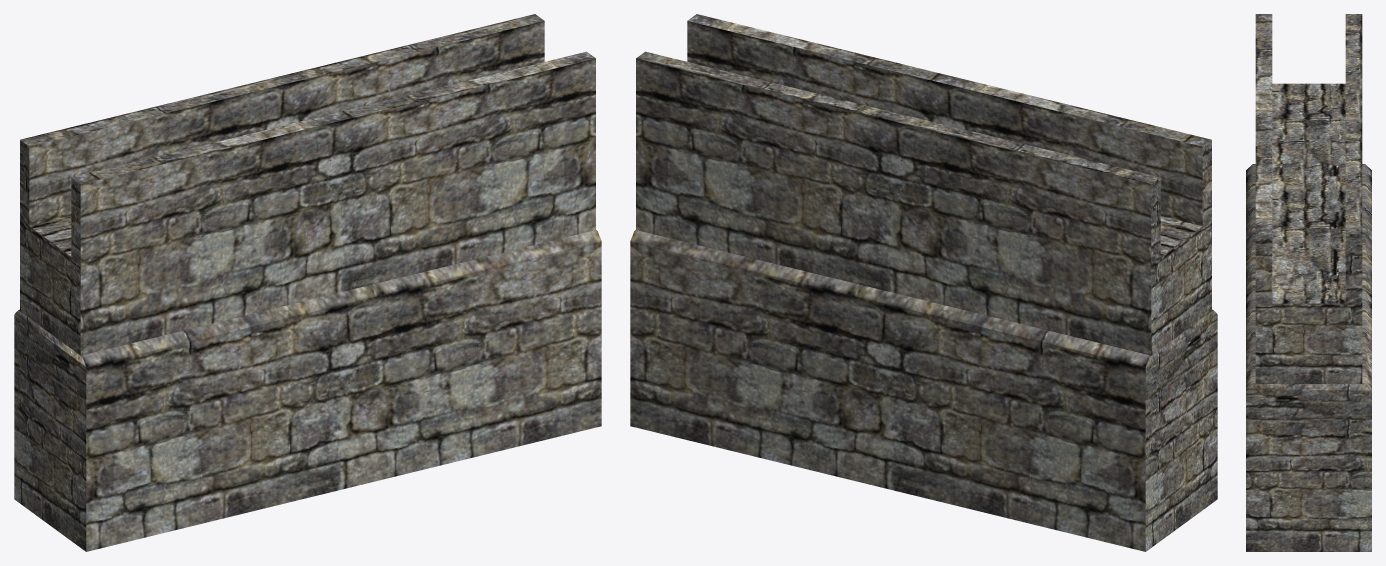
File: inca_wall_med.dae
3 renders of one model, left to right at view 1: azimuth 30°, elevation 25°; view 2: azimuth 150°, elevation 25°; view 3: azimuth 270°, elevation 25°, orthographic. The views are drawn at different scales.
Parts seen in each view (by area): view 1: wall_inca_med; view 2: wall_inca_med; view 3: wall_inca_med.
Part boxes in pixels (left/top/right/bottom): wall_inca_med: left=14, top=14, right=601, bottom=551; wall_inca_med: left=630, top=14, right=1217, bottom=551; wall_inca_med: left=1246, top=14, right=1371, bottom=551.
Bounding box in the file's own units: 24 × 5.8 × 16.18.
